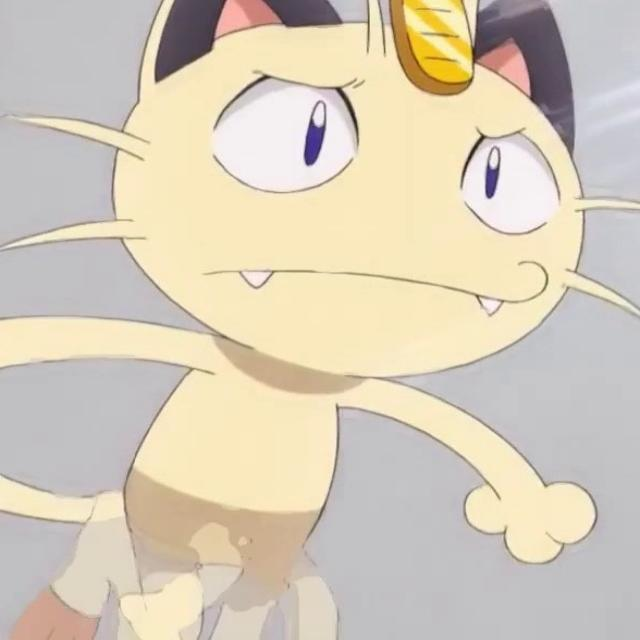Meowth: (121, 0, 577, 617)
